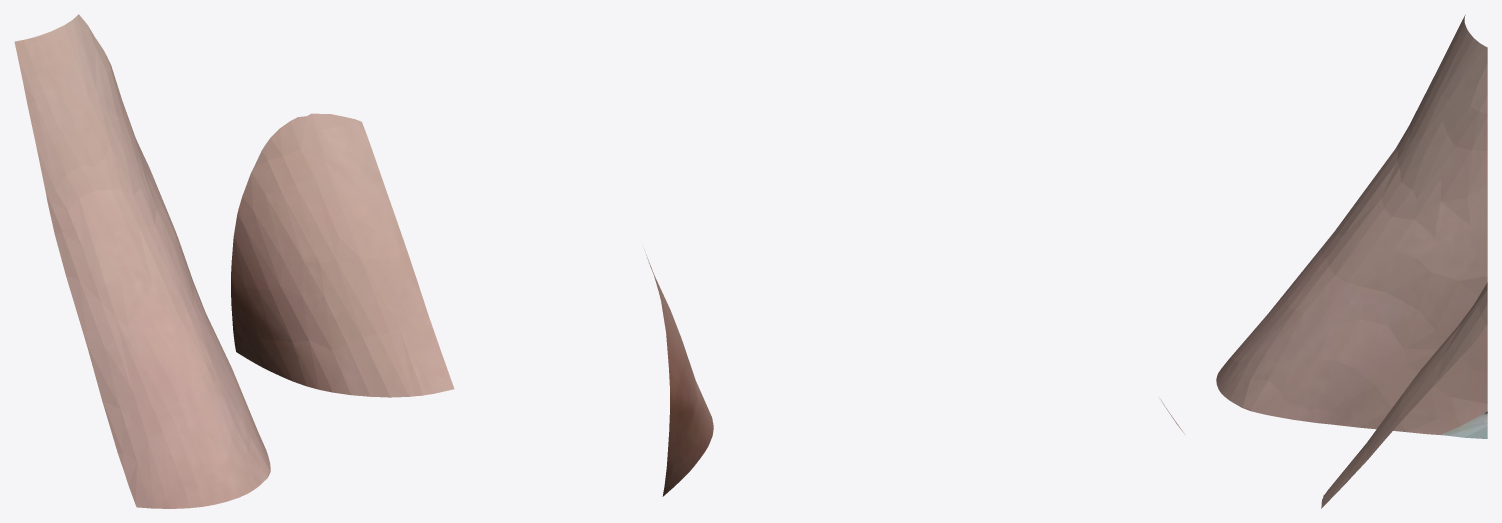
The picture shows the model from 3 angles, left to right: view 1: azimuth 30°, elevation 25°; view 2: azimuth 150°, elevation 25°; view 3: azimuth 270°, elevation 25°; orthographic projection. The views are drawn at different scales.
Size of the model in its own units: 85.74 by 85.74 by 62.42.
1 material, 1 textured.
